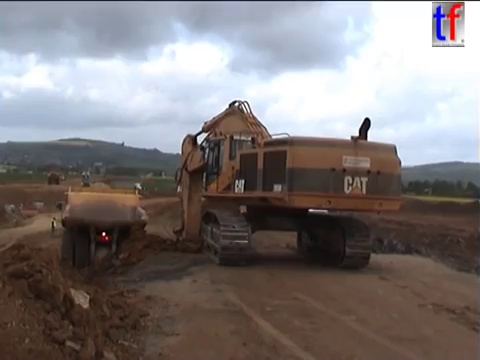excavator: (161, 97, 405, 287)
truck: (55, 184, 150, 272), (110, 180, 142, 193), (45, 170, 60, 185)
worker: (49, 215, 57, 236)
